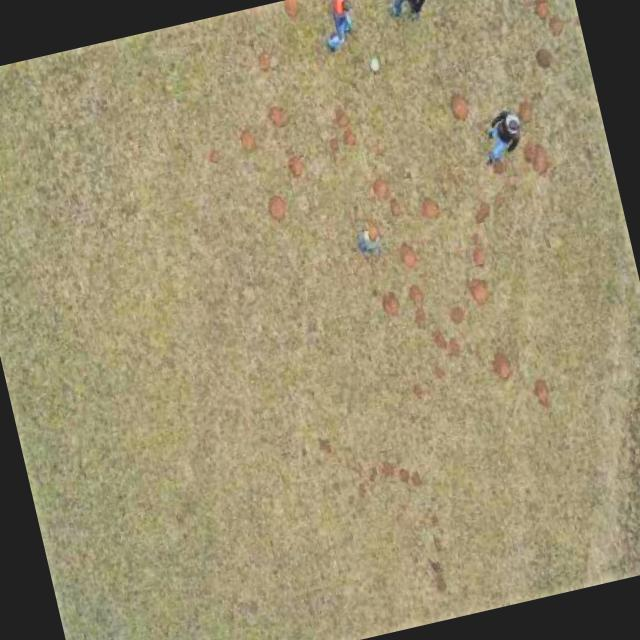Person: (464, 98, 534, 175), (304, 0, 363, 59), (381, 0, 439, 31)
